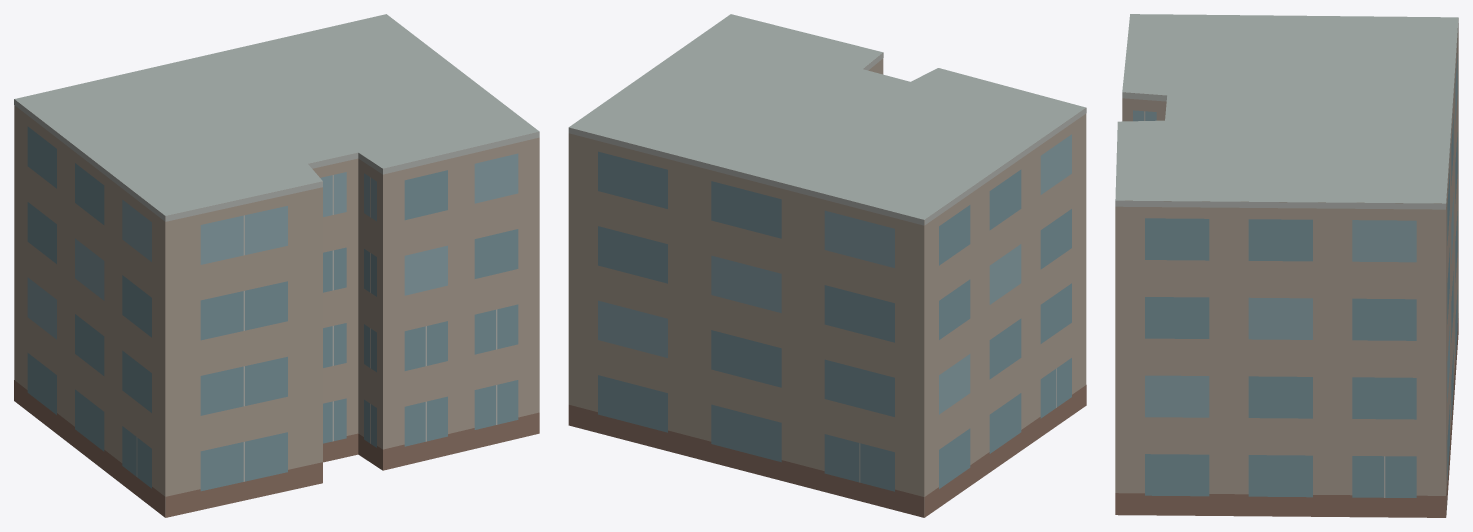
Rendered from survey-upis-32619585.glb.
3 renders of one model, left to right at view 1: azimuth 30°, elevation 25°; view 2: azimuth 150°, elevation 25°; view 3: azimuth 270°, elevation 25°, orthographic. The views are drawn at different scales.
Parts seen in each view (by area): view 1: survey-upis-32619585.tmp; view 2: survey-upis-32619585.tmp; view 3: survey-upis-32619585.tmp.
Boxes of the visible parts, box(x1,y1,x2,y2) form: survey-upis-32619585.tmp: box(14, 14, 539, 517); survey-upis-32619585.tmp: box(568, 14, 1086, 517); survey-upis-32619585.tmp: box(1115, 14, 1458, 517).
Size of the model in its own units: 16.23 by 12.55 by 12.42.
